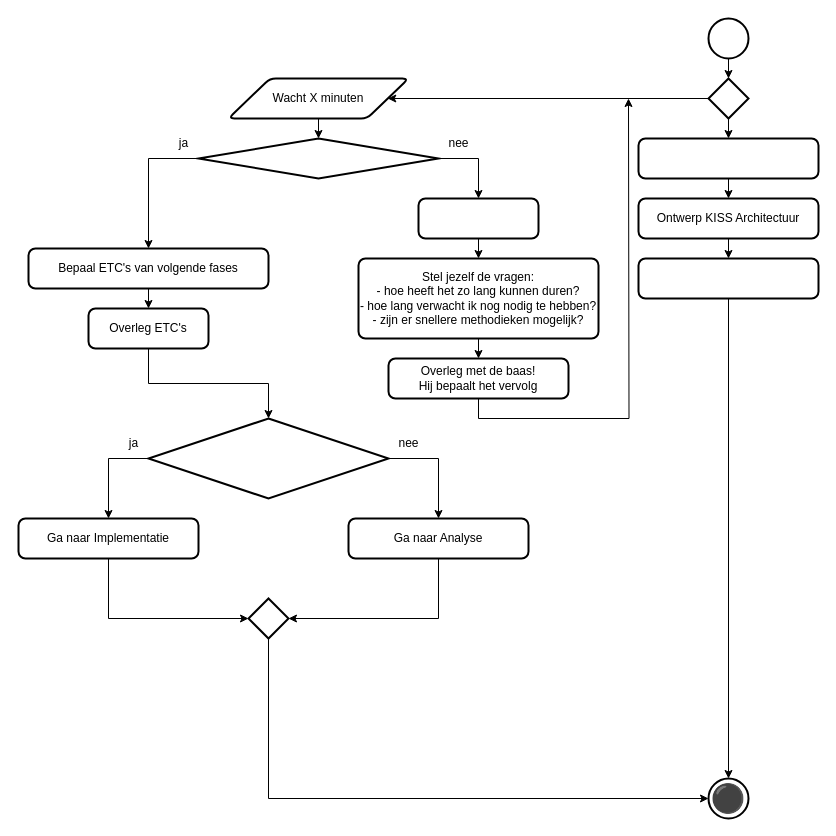
This 836x836 diagram has some shape labels left out. The centre of each missing label's shape, as x and y in pixels:
Herzie planning: point 478,218
Kies de meest geschikte aanpak: point 728,158
Ontwerp conform hypothese/analyse?: point 268,458
Ontwerp Goedgekeurd?: point 318,158
Schrijf rationale in commentaar: point 728,278
